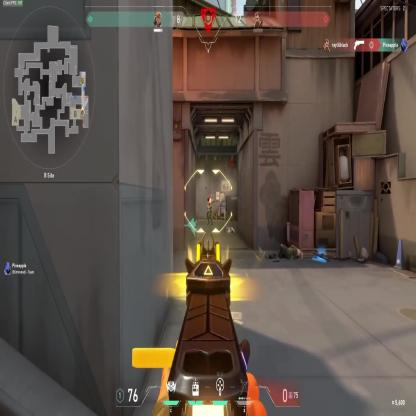enemy: (207, 195, 212, 226)
enemy_head: (207, 196, 210, 200)
